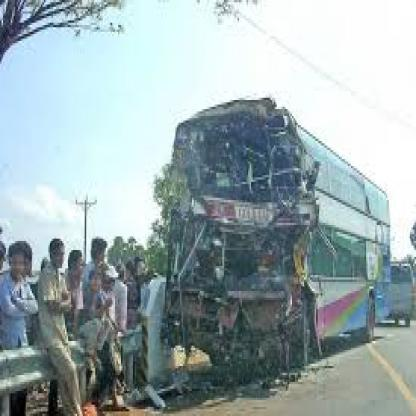accident: (150, 87, 403, 387)
